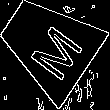M_NW: (16, 11, 80, 78)
